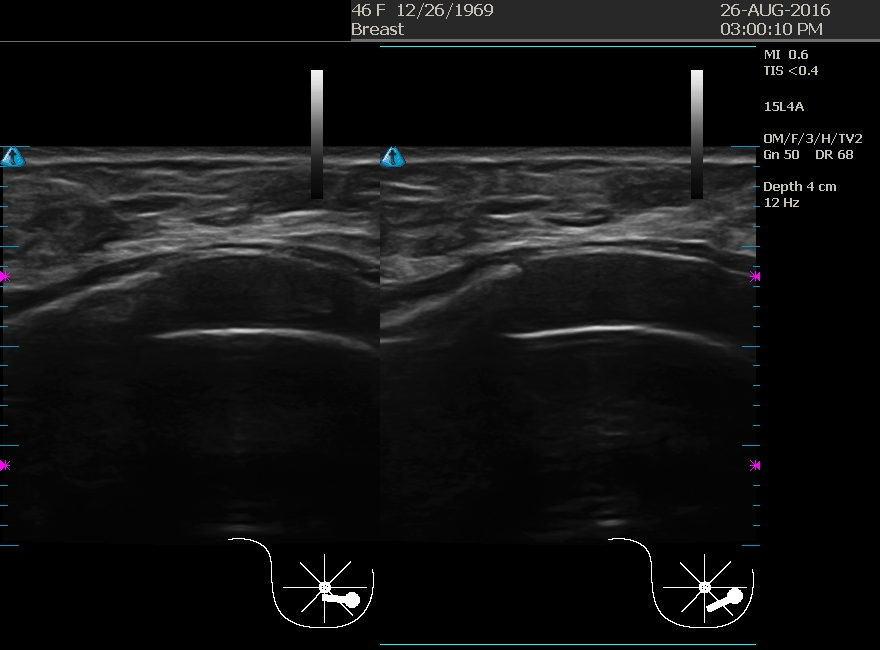BIRADS_2: (86, 154, 286, 355), (407, 155, 607, 355)
